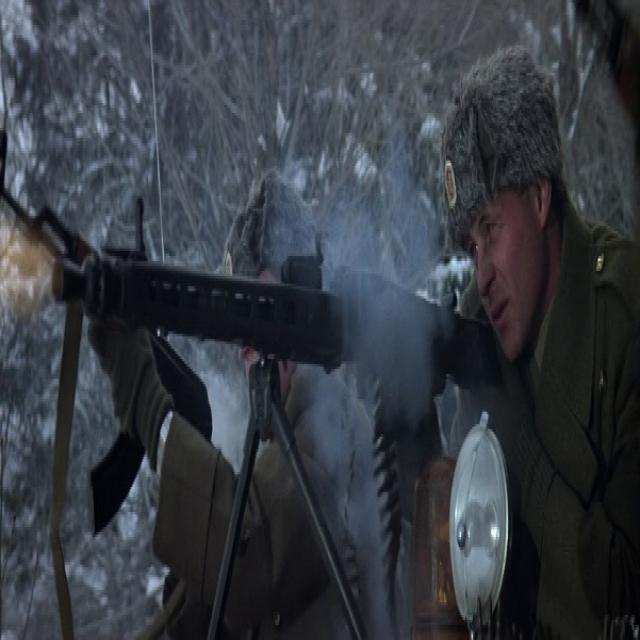rifle: (51, 189, 499, 437)
